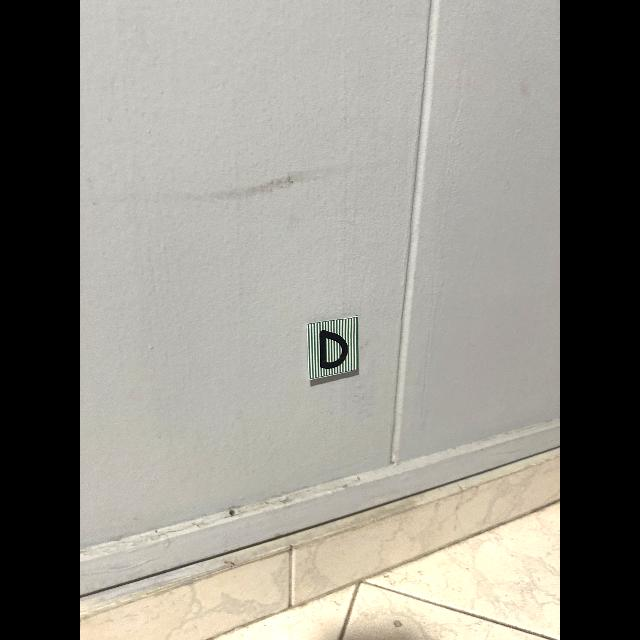D: (320, 330, 348, 369)
